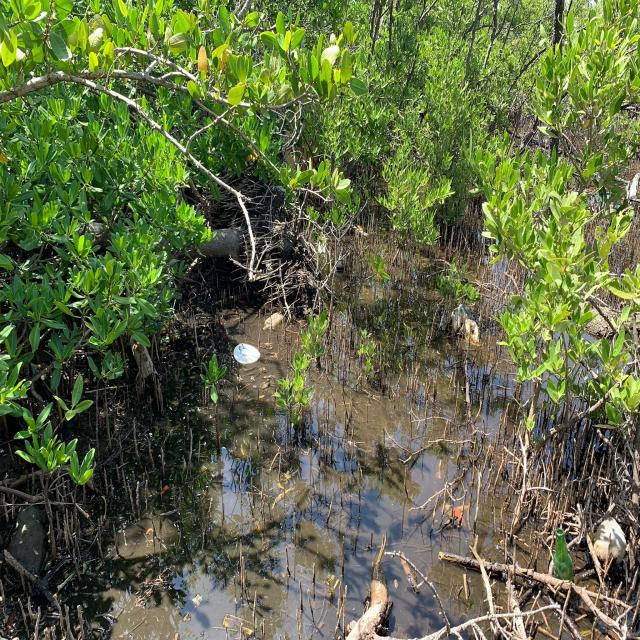litter: (551, 526, 579, 604), (446, 304, 482, 352), (228, 342, 267, 365), (260, 308, 288, 333)
